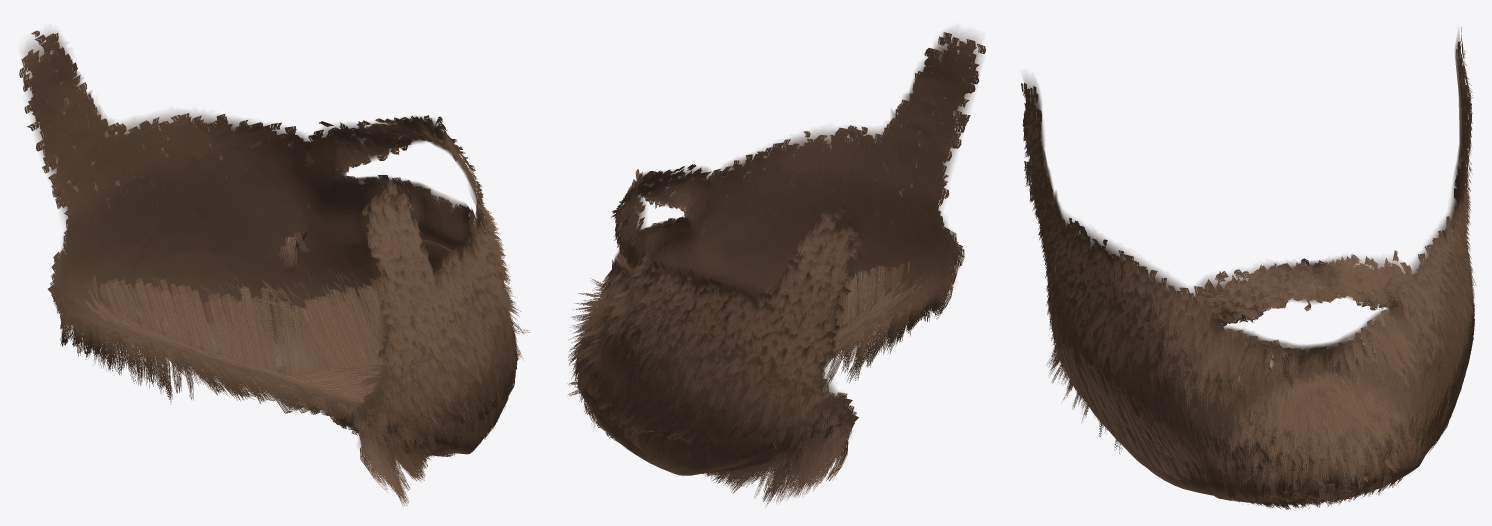
File: beard-m4-full.glb
The picture shows the model from 3 angles, left to right: view 1: azimuth 30°, elevation 25°; view 2: azimuth 150°, elevation 25°; view 3: azimuth 270°, elevation 25°; orthographic projection. The views are drawn at different scales.
Parts seen in each view (by area): view 1: Beard_m4_full_cards, Beard_m4_full_root; view 2: Beard_m4_full_cards, Beard_m4_full_root; view 3: Beard_m4_full_cards, Beard_m4_full_root.
Boxes of the visible parts, <box> form: Beard_m4_full_cards: <box>19,30,529,505</box>; Beard_m4_full_root: <box>22,31,505,454</box>; Beard_m4_full_cards: <box>567,32,985,506</box>; Beard_m4_full_root: <box>578,29,982,475</box>; Beard_m4_full_cards: <box>1021,27,1476,509</box>; Beard_m4_full_root: <box>1023,31,1469,500</box>.
Bounding box in the file's own units: 0.1548 × 0.1463 × 0.1627.
Materials: 2 (1 with a texture image).
